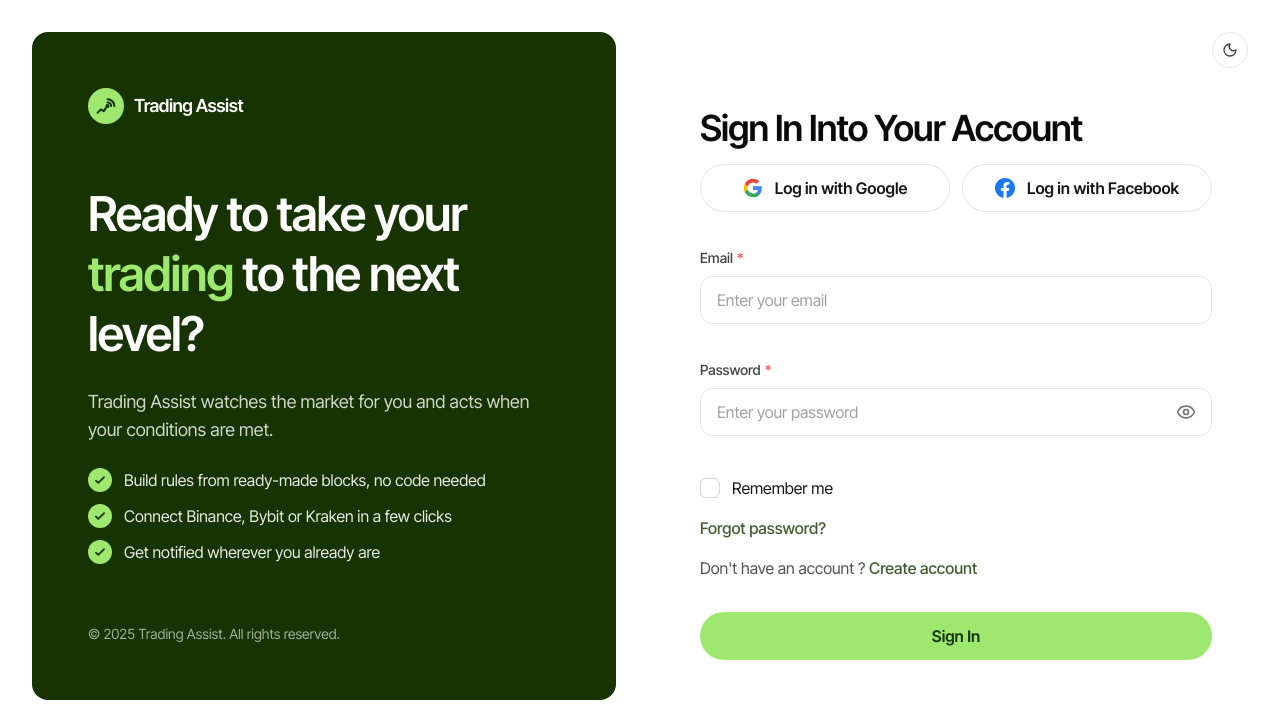
Test case: SignIn › Validation (client-side) › disables submit button when form is invalid after validation attempt
Click the button "Sign In".
click(956, 636)  # box [700,612,1212,660]
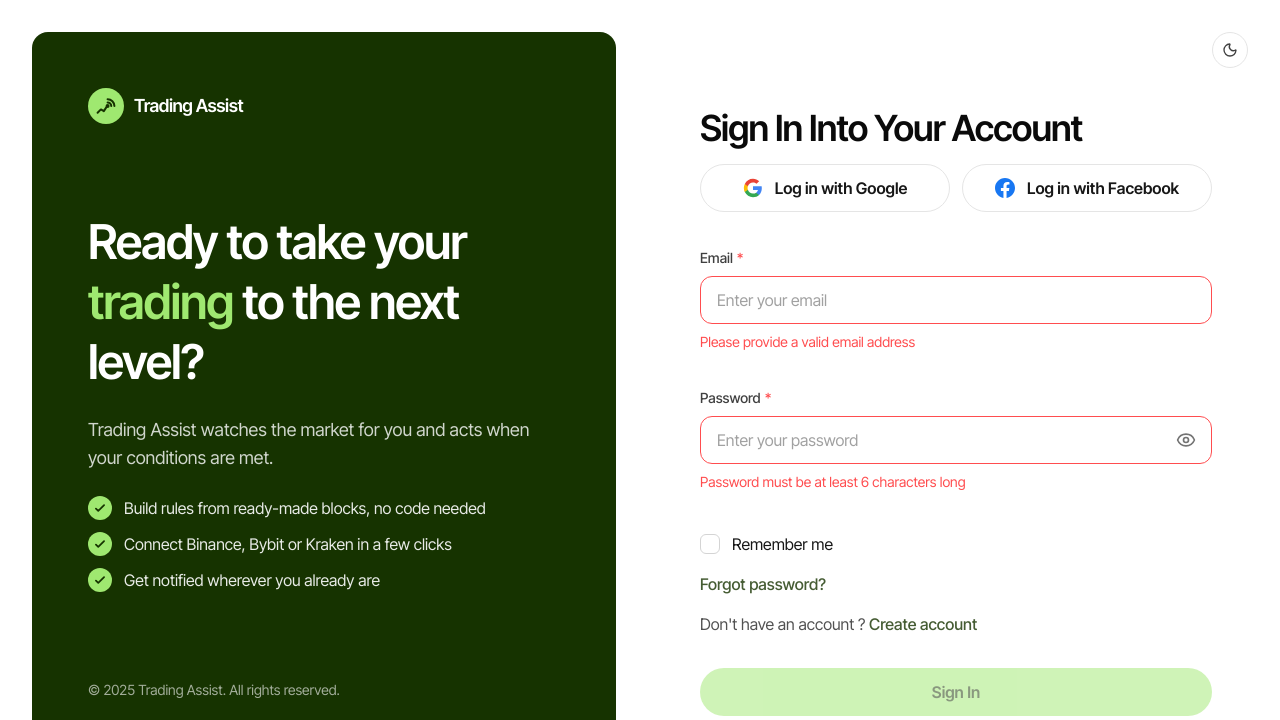
Expected: the button "Sign In" is disabled, [700,668,1212,716]
